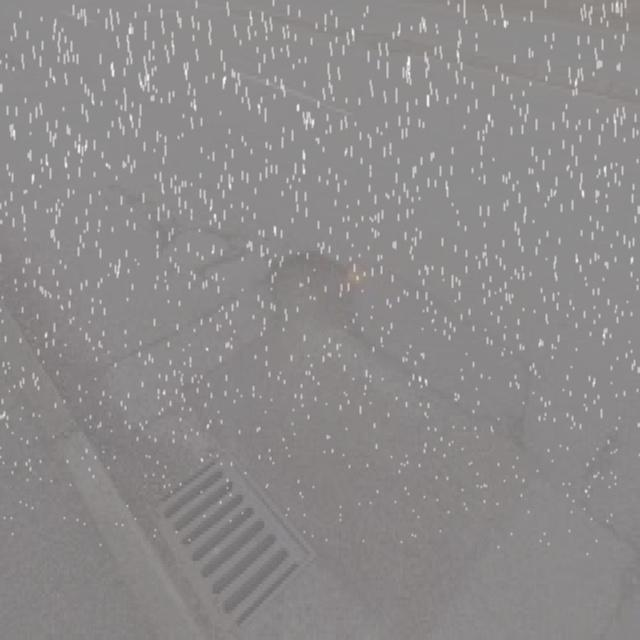Pothole: (256, 232, 406, 362)
